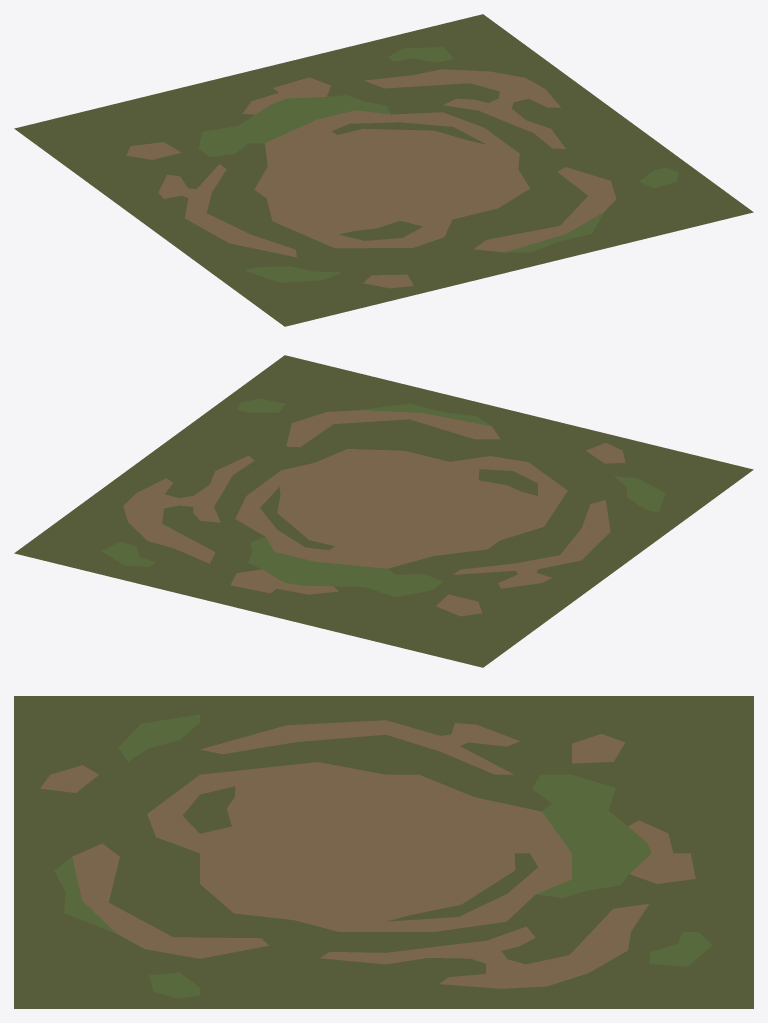
Rendered from ground_grass_b.glb.
The picture shows the model from 3 angles, top to bottom: view 1: azimuth 30°, elevation 25°; view 2: azimuth 150°, elevation 25°; view 3: azimuth 270°, elevation 25°; orthographic projection. The views are drawn at different scales.
Visible parts, largest first — view 1: SM_Env_FloorTile_02; view 2: SM_Env_FloorTile_02; view 3: SM_Env_FloorTile_02.
Part boxes in pixels (bbox=[...]): SM_Env_FloorTile_02: bbox=[14, 14, 753, 326]; SM_Env_FloorTile_02: bbox=[14, 355, 753, 667]; SM_Env_FloorTile_02: bbox=[14, 696, 753, 1008].
Bounding box in the file's own units: 300 × 1.02e-13 × 300.
1 material, 1 textured.
